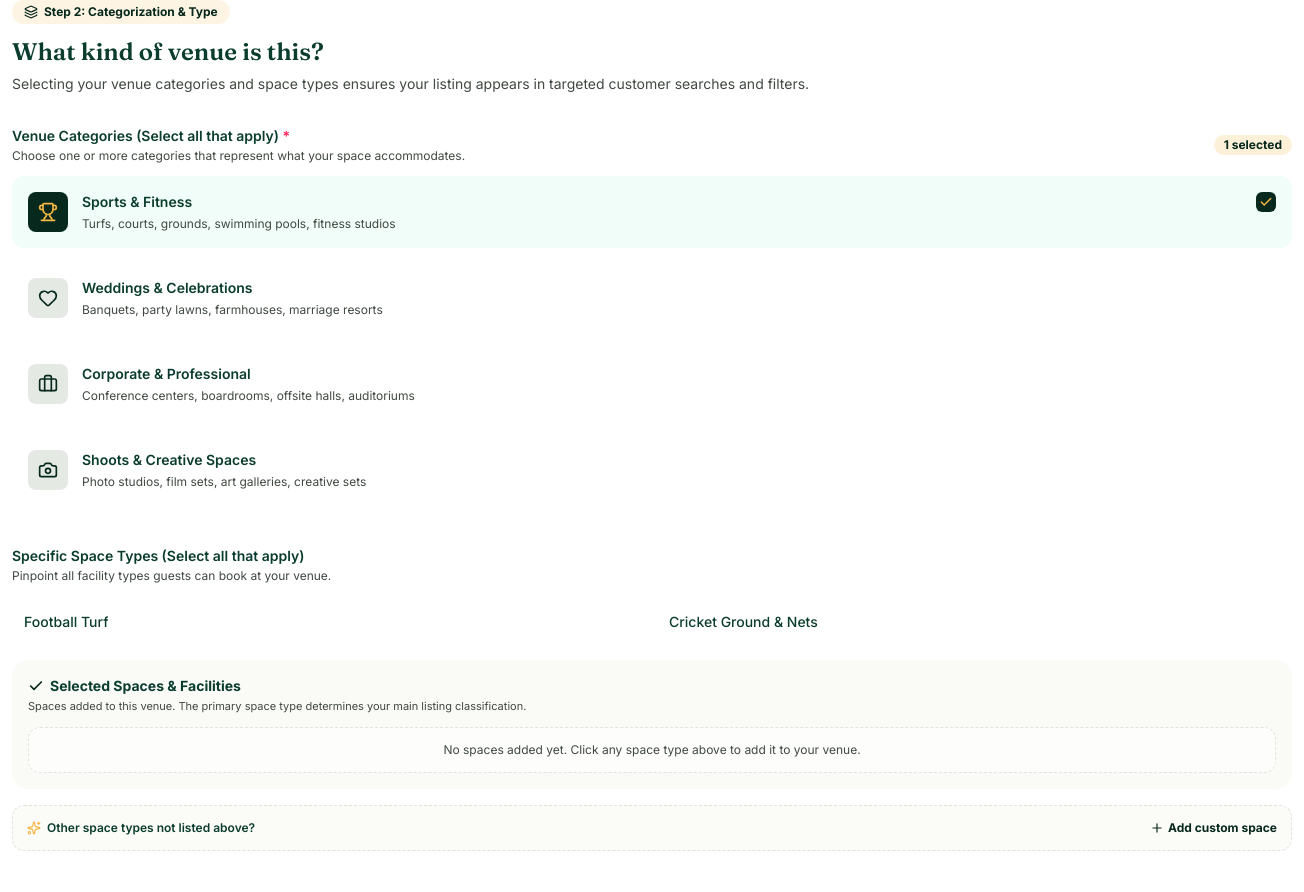
CategoryStep - Multi-Category, Multi-Space-Type & Deduplication › 4. provides "+ Other Space Type" option and allows adding/removing custom space types
Check: the text "Other space types not listed above?" is shown, box [27,820,255,836]
Note: Click "Add custom space" button
Step 1. Click the button "Add custom space" → (1214, 828), box [1150,820,1277,836]
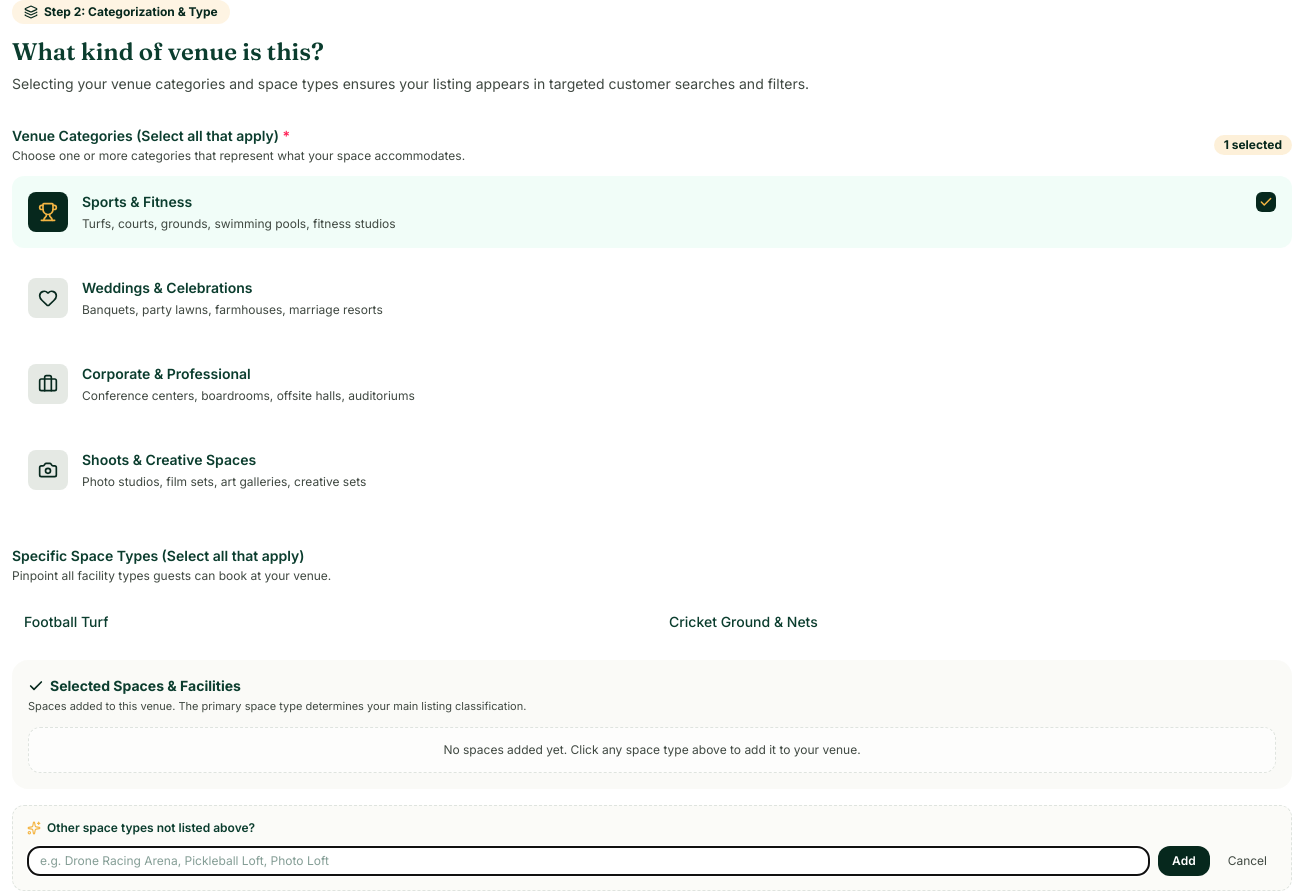
Note: Type custom space type
Step 2. Type "Pickleball Turf & Lounge" into the field with placeholder "e.g. Drone Racing Arena, Pickleball Loft, Photo Loft" → (589, 860), box [27,846,1150,876]
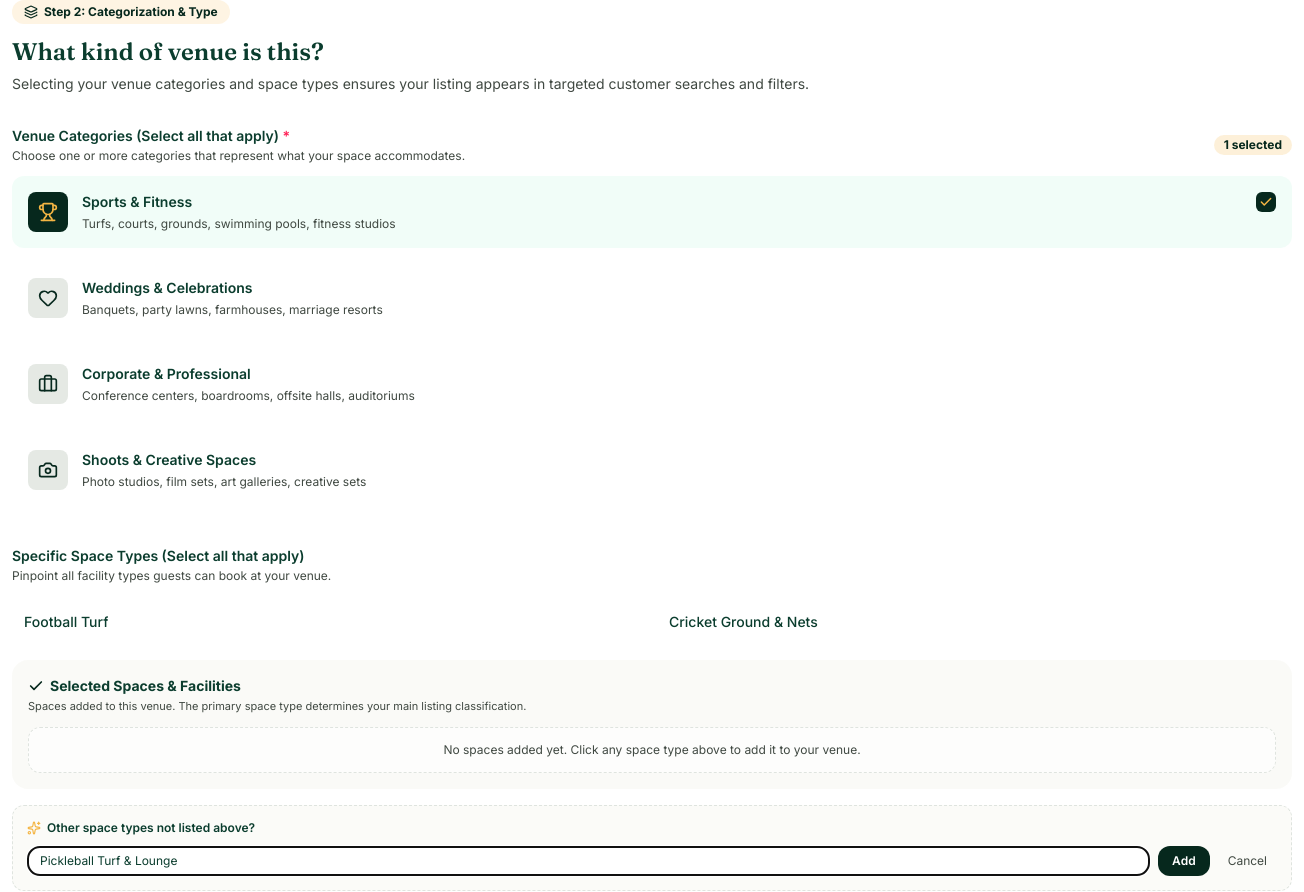
Step 3. Click the button "Add" → (1184, 860), box [1158,846,1210,876]
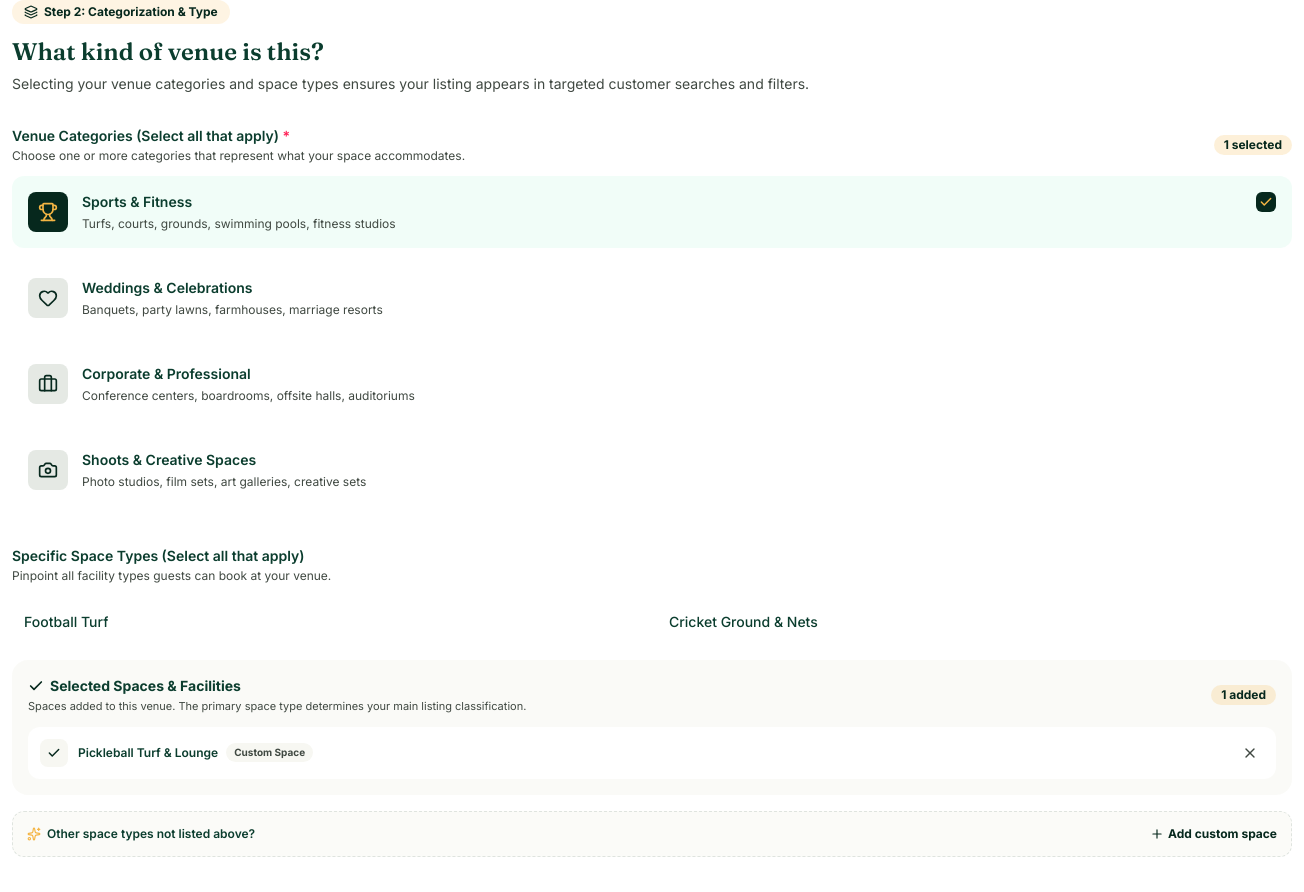
Check: the text "Pickleball Turf & Lounge" is shown, box [78,744,218,760]
Note: Remove it
Step 4. Click the button named "Remove" → (1250, 752), box [1236,738,1264,766]
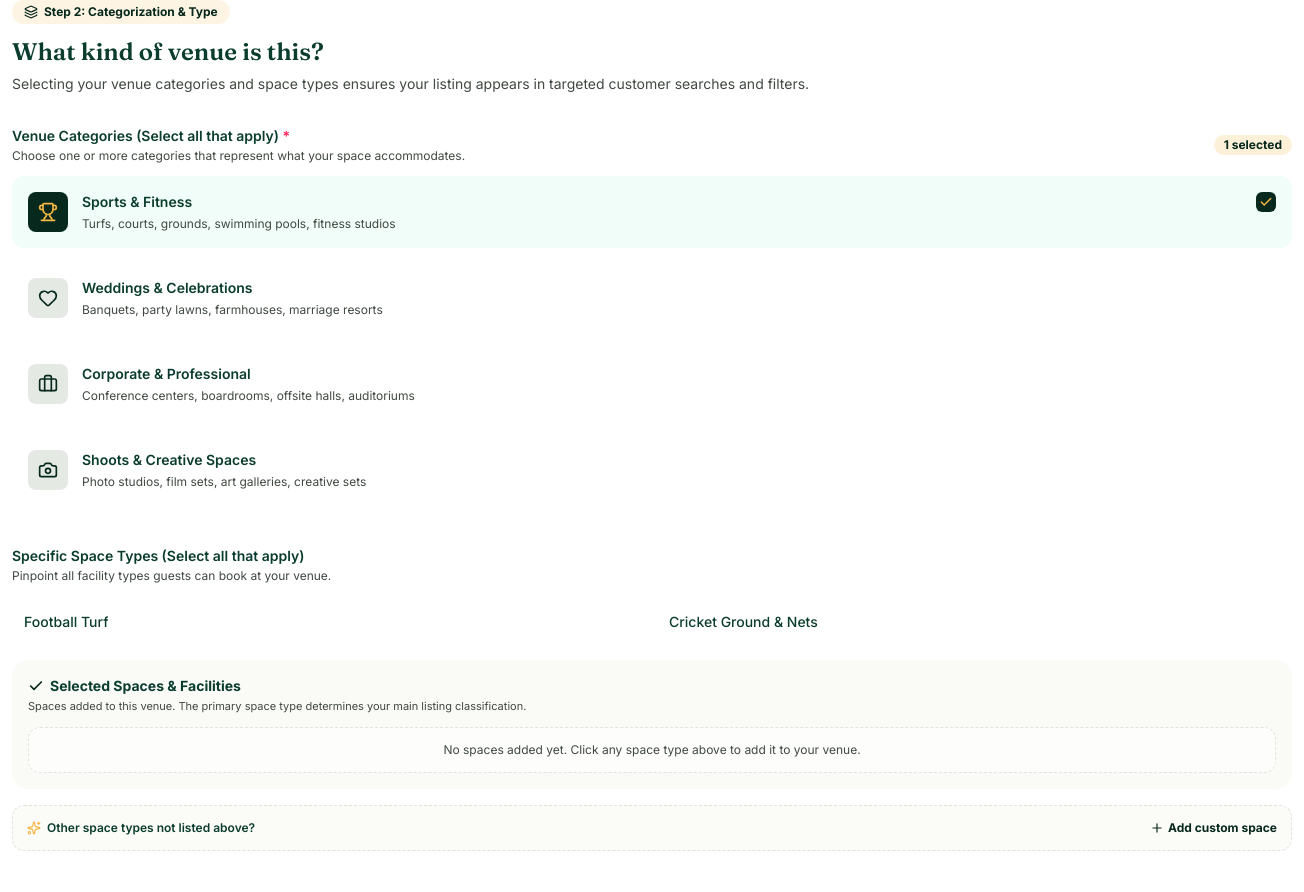
Check: the text "Pickleball Turf & Lounge" is gone
